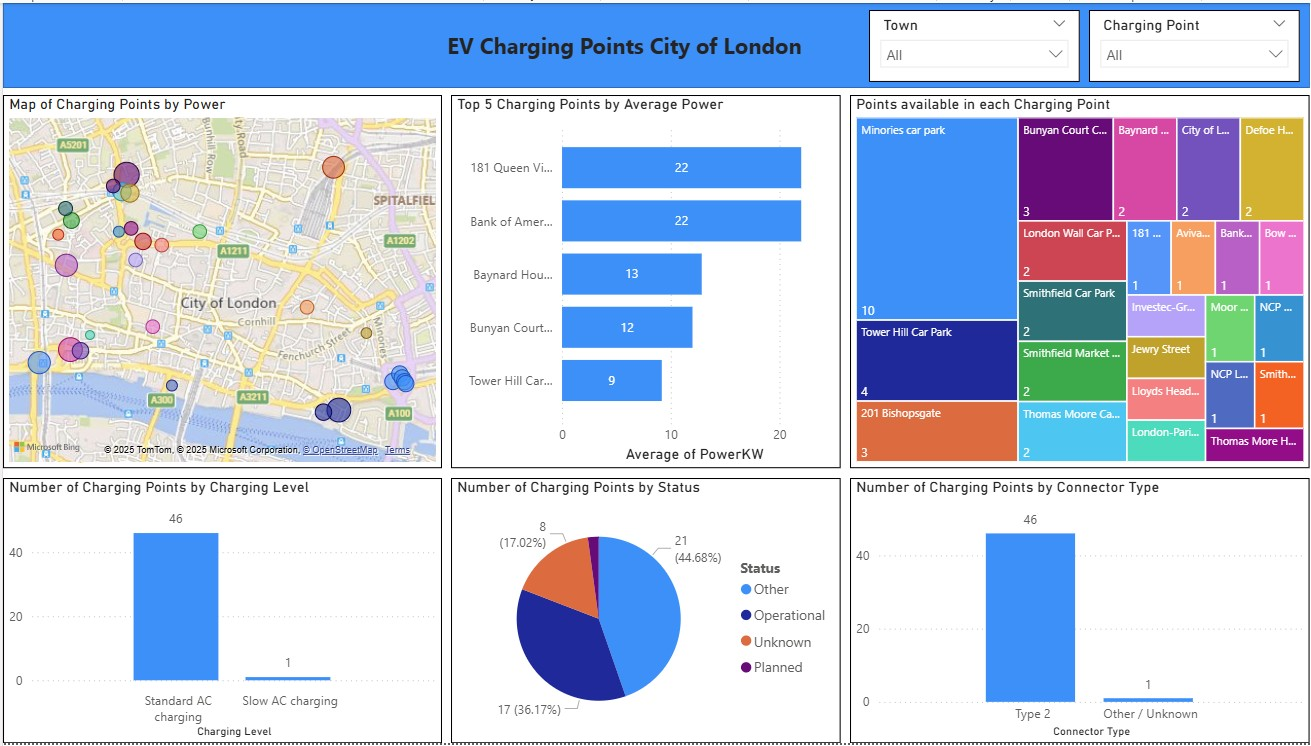

The page's visual inventory and layout, read from the dashboard file:
{"tool":"powerbi","page":{"name":"Page 1","canvas":[1280,720],"ordinal":0},"visuals":[{"type":"map","title":"Map of Charging Points by Power","fields":{"X":["geo_london.Longitude"],"Y":["geo_london.Latitude"],"Series":["geo_london.Title"],"Size":["Sum(geo_london.PowerKW)"]},"box":[0,89.5,427,362.8],"z":0},{"type":"columnChart","title":"Number of Charging Points by Charging Level","fields":{"Category":["geo_london.Charging Level"],"Y":["CountNonNull(geo_london.ID)"]},"box":[0,462,427,257.8],"z":1000},{"type":"barChart","title":"Top 5 Charging Points by Average Power","fields":{"Y":["Avg(geo_london.PowerKW)"],"Category":["geo_london.Title"]},"box":[435.7,89.5,379.3,362.8],"z":2000},{"type":"pieChart","title":"Number of Charging Points by Status","fields":{"Category":["geo_london.Charging Location Status"],"Y":["CountNonNull(geo_london.ConnectionID)"]},"box":[435.7,462,379.3,257.8],"z":3000},{"type":"treemap","title":"Points available in each Charging Point","fields":{"Group":["geo_london.Title"],"Values":["CountNonNull(geo_london.Points Display)"]},"box":[823.8,89.5,447.4,362.8],"z":4000},{"type":"columnChart","title":"Number of Charging Points by Connector Type","fields":{"Category":["geo_london.Connector Type"],"Y":["CountNonNull(geo_london.ConnectionID)"]},"box":[823.8,462,447.4,257.8],"z":5000},{"type":"shape","box":[0,0,1271.2,82.7],"z":6000},{"type":"textbox","box":[322.9,21.4,563.2,45.7],"z":7000},{"type":"slicer","fields":{"Values":["geo_london.Town"]},"box":[842.3,6.8,205.2,70],"z":8000},{"type":"slicer","fields":{"Values":["geo_london.Title"]},"box":[1056.3,6.8,205.2,70],"z":9000}]}

Visuals, with their boxes in screenshot pixels (x1, y1, x2, y2), scaled from the page's 1280x720 canvas onto the 1311x746 screenshot:
"Map of Charging Points by Power" map: rect(0, 93, 437, 469)
"Number of Charging Points by Charging Level" columnChart: rect(0, 479, 437, 745)
"Top 5 Charging Points by Average Power" barChart: rect(446, 93, 835, 469)
"Number of Charging Points by Status" pieChart: rect(446, 479, 835, 745)
"Points available in each Charging Point" treemap: rect(844, 93, 1302, 469)
"Number of Charging Points by Connector Type" columnChart: rect(844, 479, 1302, 745)
shape: rect(0, 0, 1302, 86)
textbox: rect(331, 22, 908, 70)
slicer - geo_london.Town: rect(863, 7, 1073, 80)
slicer - geo_london.Title: rect(1082, 7, 1292, 80)
